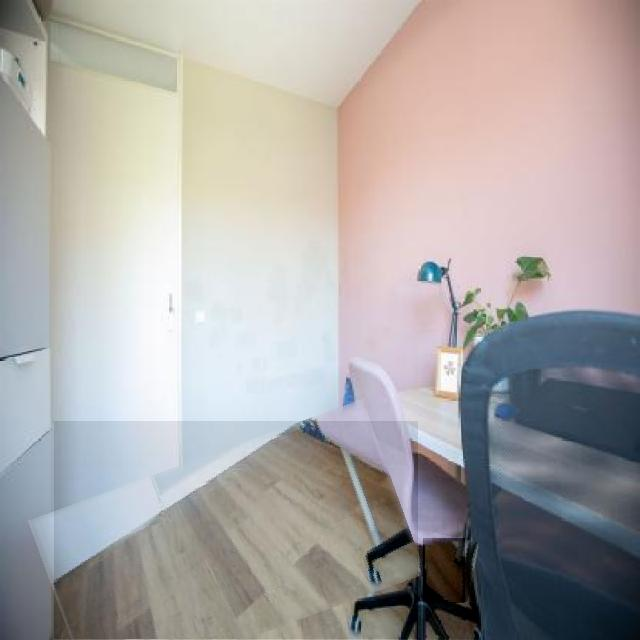floor: (54, 421, 418, 640), (423, 539, 465, 610), (423, 604, 479, 639)
